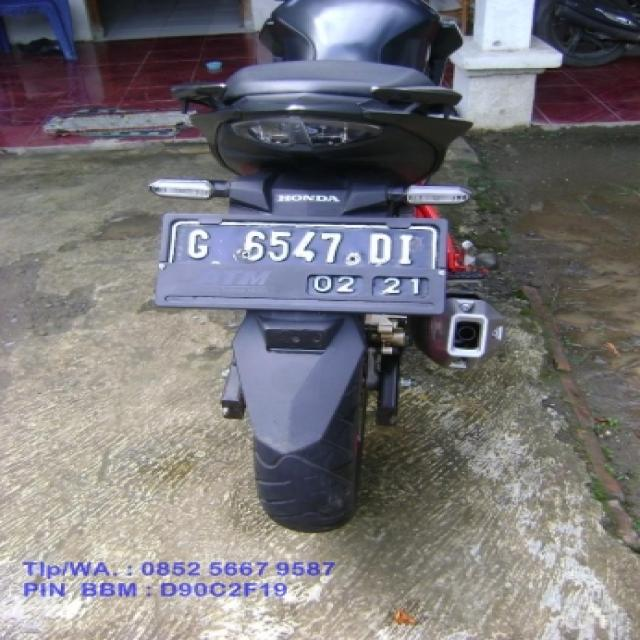plate: (168, 215, 446, 312)
